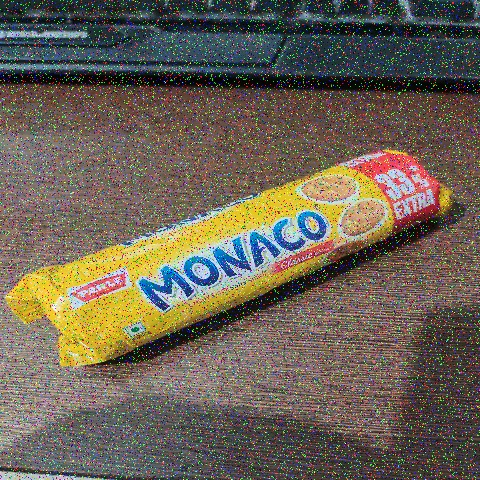monaco: (5, 124, 475, 386)
